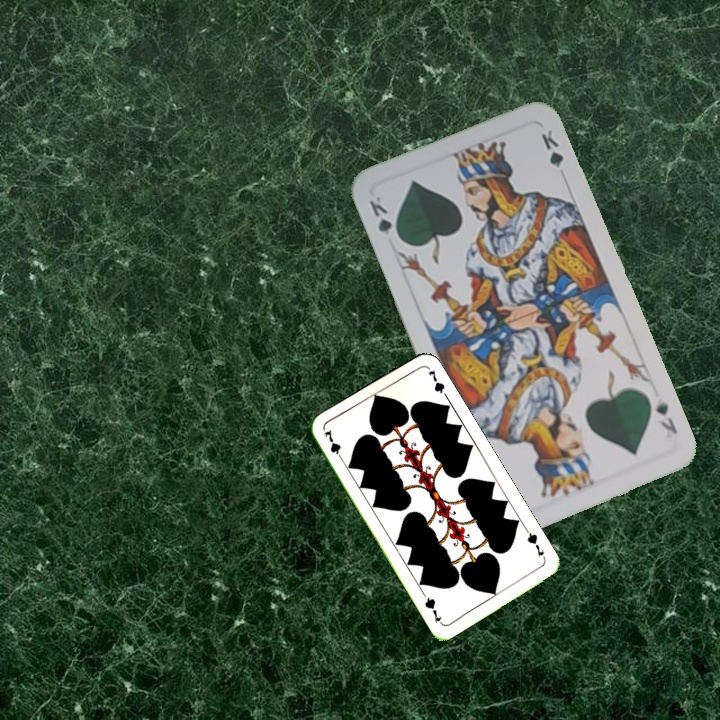G7: (320, 426, 346, 465), (522, 525, 547, 559)
GK: (365, 192, 404, 244), (651, 396, 681, 437)
